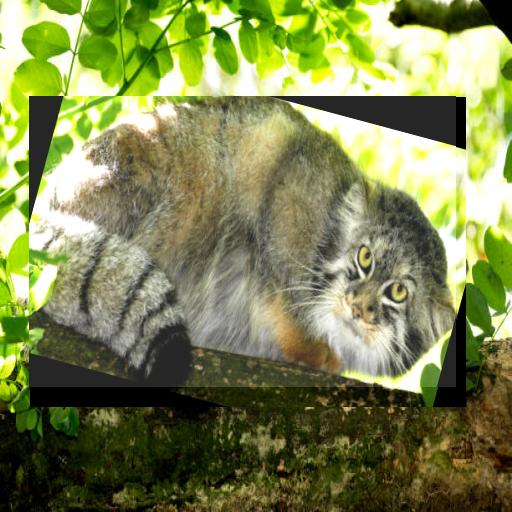manul: (30, 97, 456, 387)
